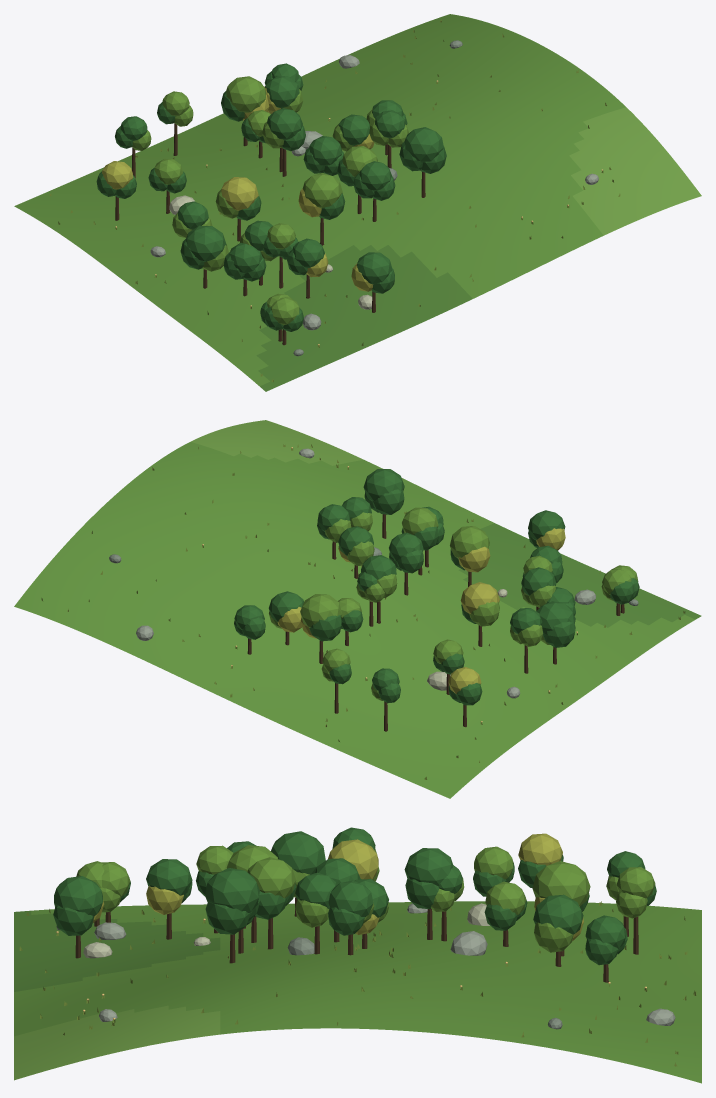
File: Chunk_X2_Y0_Z-2.fbx
3 views of the same model, one above another, from view 1: azimuth 30°, elevation 25°; view 2: azimuth 150°, elevation 25°; view 3: azimuth 270°, elevation 25° (orthographic). The views are drawn at different scales.
Visible parts, largest first — view 1: Terrain.036, Canopies.035, Trunks.035, Rocks.036, GroundCover.036; view 2: Terrain.036, Canopies.035, Trunks.035, Rocks.036; view 3: Terrain.036, Canopies.035, Rocks.036, Trunks.035, GroundCover.036.
Part boxes in pixels (box(x1,y1,x2,y2)): Terrain.036: box(14, 14, 701, 391); Canopies.035: box(96, 63, 446, 331); Trunks.035: box(115, 123, 425, 345); Rocks.036: box(150, 40, 598, 356); GroundCover.036: box(49, 19, 620, 381); Terrain.036: box(14, 420, 701, 798); Canopies.035: box(234, 469, 639, 705); Trunks.035: box(247, 514, 624, 731); Rocks.036: box(109, 448, 638, 698); Terrain.036: box(14, 901, 701, 1083); Canopies.035: box(53, 827, 656, 965); Rocks.036: box(56, 903, 675, 1029); Trunks.035: box(75, 897, 638, 982); GroundCover.036: box(19, 901, 696, 1066).
Size of the model in its own units: 100 by 32.07 by 100.
